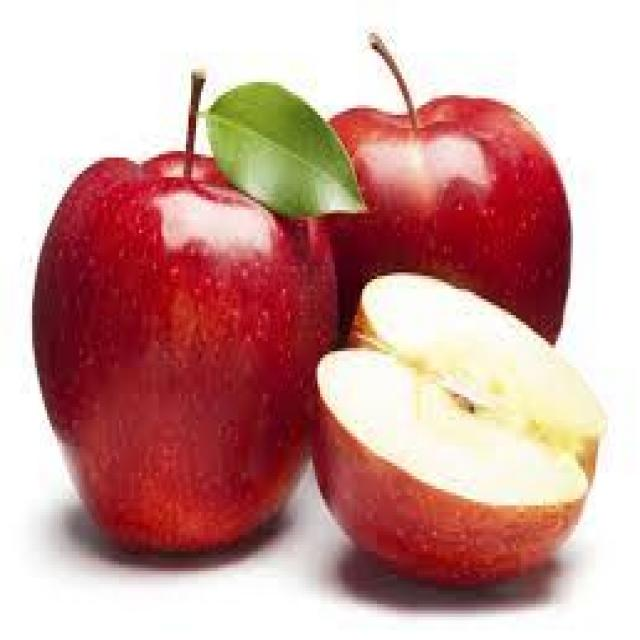organic waste: (30, 69, 342, 561), (308, 269, 598, 591), (310, 95, 573, 371)
